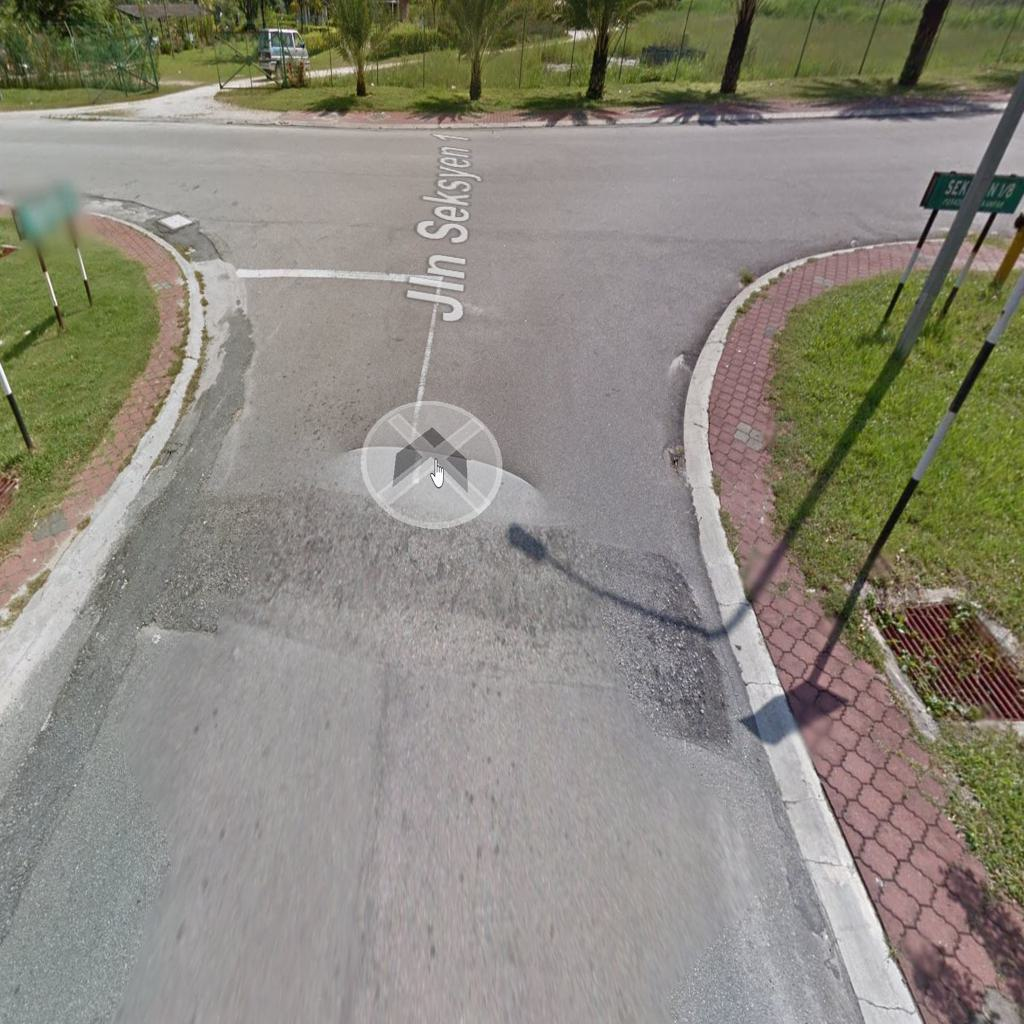Junction: (660, 93, 1009, 364), (16, 99, 291, 356)
